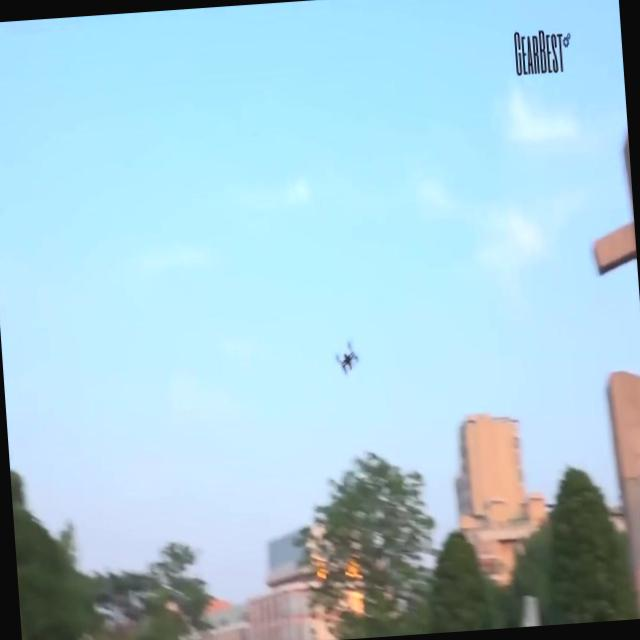drone: (332, 340, 358, 376)
